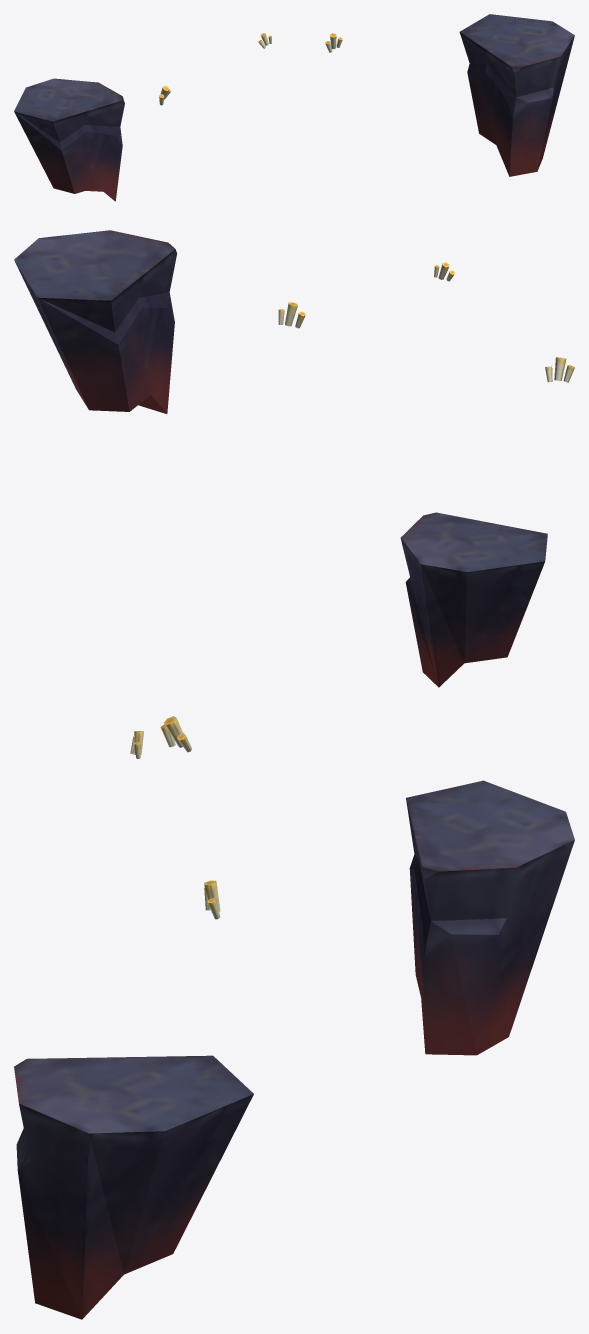
The model's file is Area08_8.fbx.
3 renders of one model, top to bottom at view 1: azimuth 30°, elevation 25°; view 2: azimuth 150°, elevation 25°; view 3: azimuth 270°, elevation 25°, orthographic. The views are drawn at different scales.
Visible parts, largest first — view 1: Area08_8; view 2: Area08_8; view 3: Area08_8.
Boxes of the visible parts, bbox=[...] form: Area08_8: bbox=[14, 14, 574, 201]; Area08_8: bbox=[14, 230, 574, 687]; Area08_8: bbox=[14, 716, 574, 1319].
Size of the model in its own units: 1364 by 582 by 754.
